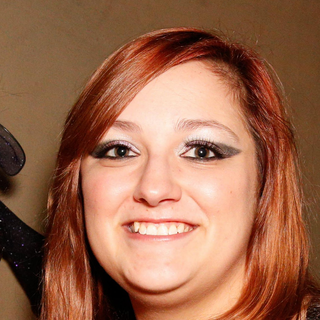eye: (169, 132, 240, 167), (80, 132, 147, 169)
